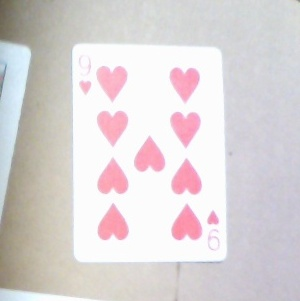card: (70, 39, 230, 262)
